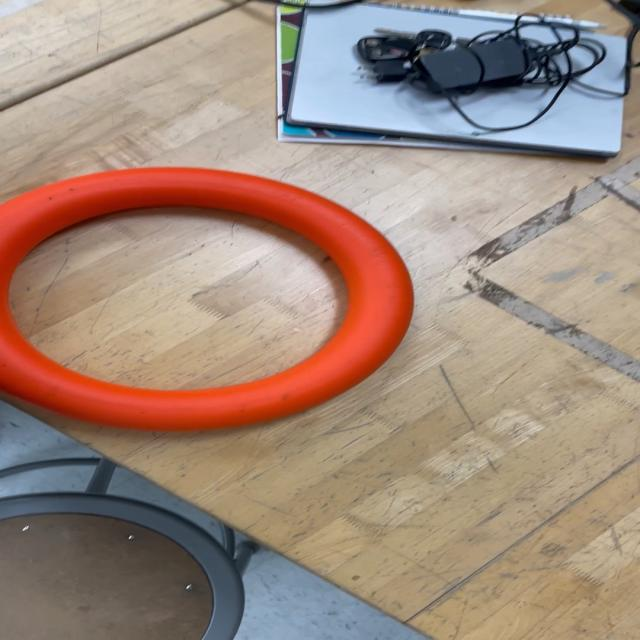note: (0, 166, 417, 434)
